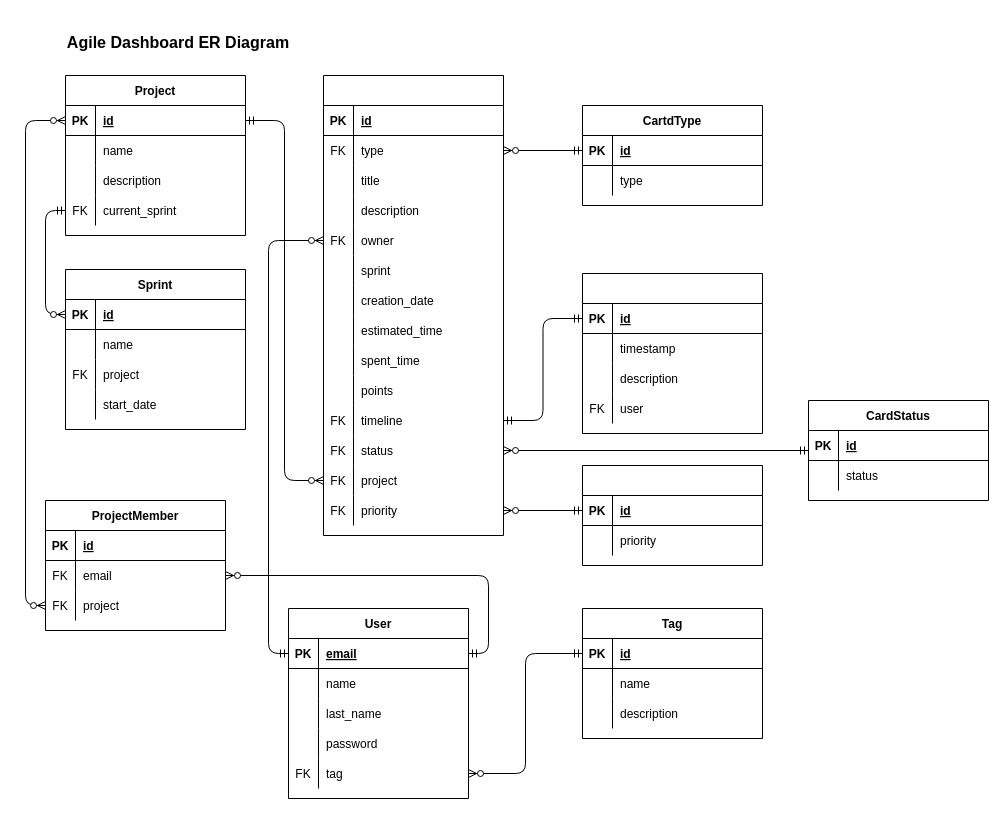
Some shapes in this 1006 by 816 pixel diagram are drawn without their labels. The box of each missing label's shape, as (x1, y1, x2, y2) in pixels:
Card: (322, 74, 504, 536)
CardPriority: (582, 464, 762, 566)
CardTimeline: (582, 272, 762, 434)
